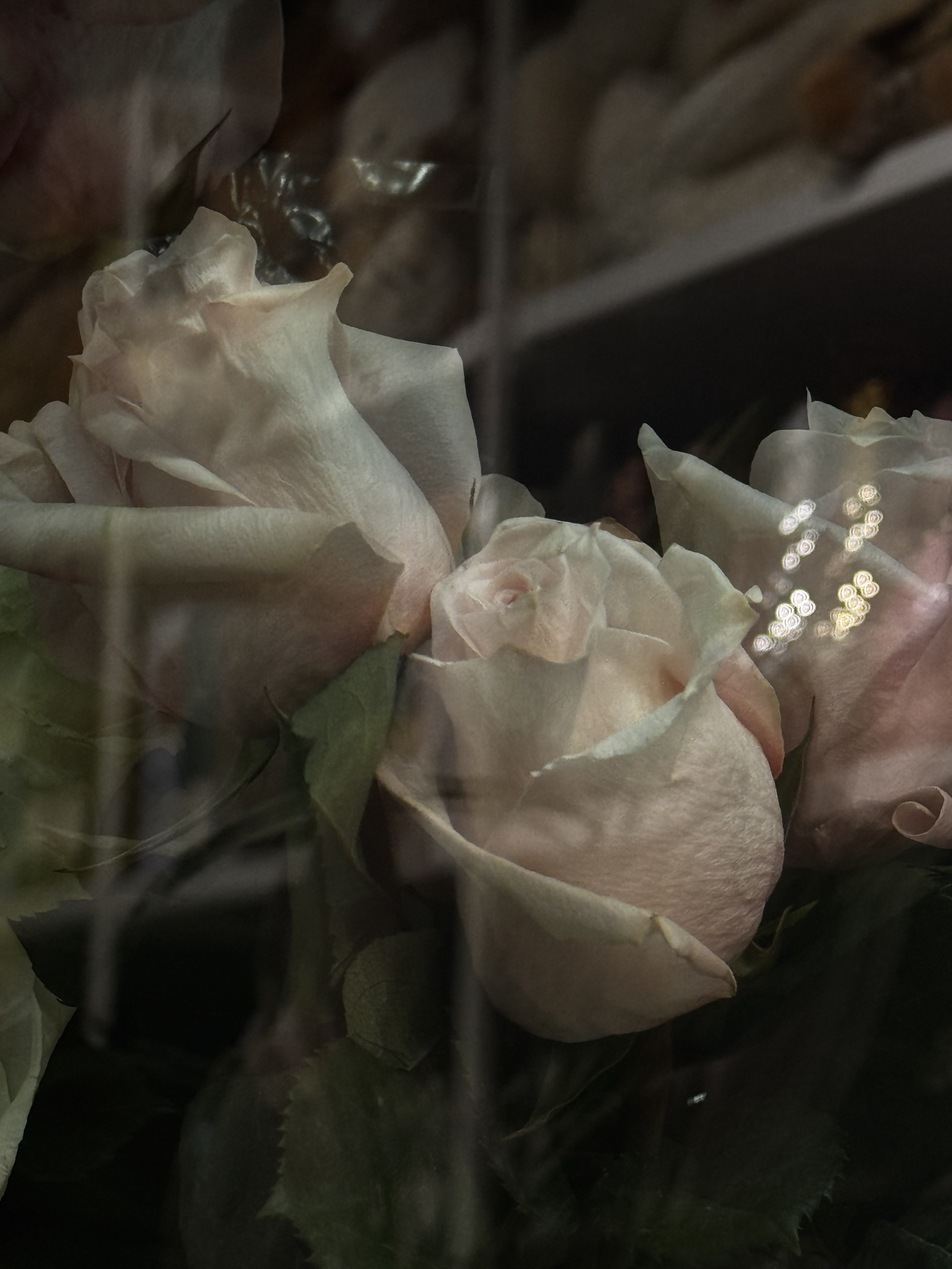rose: (381, 501, 804, 1080), (0, 219, 509, 691), (652, 385, 952, 862)
